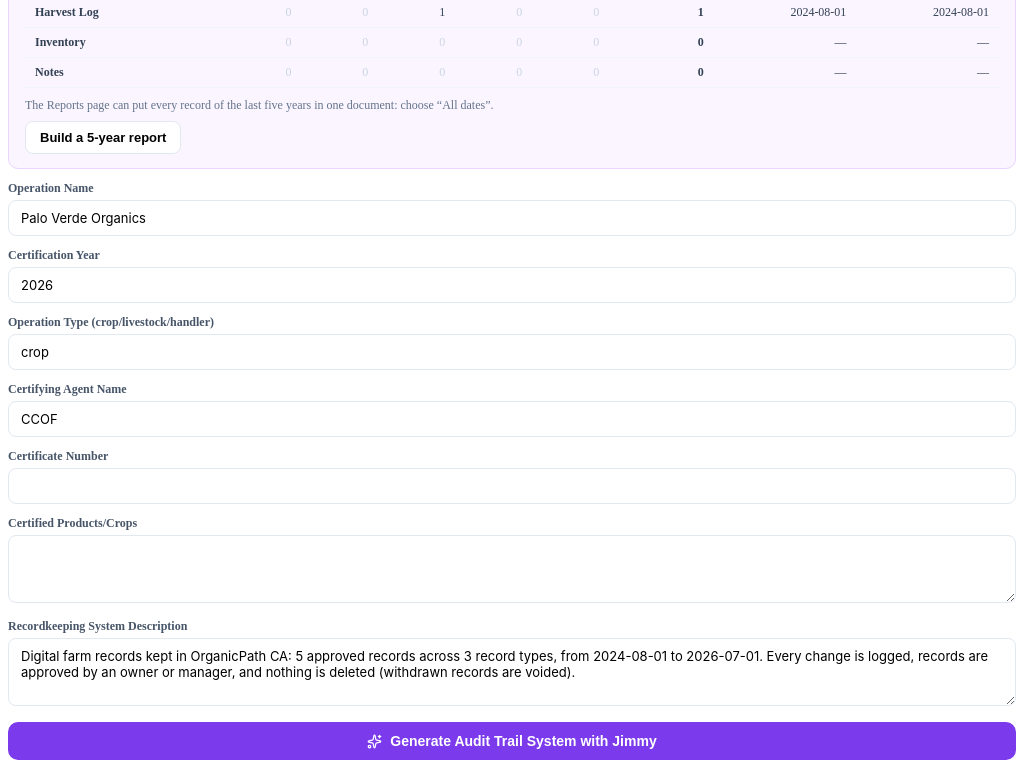
Test case: AuditTrailForm: writing the document › shows a problem instead of a draft when the AI cannot answer
(page scrolled)
Click the button "Generate Audit Trail System with Jimmy": (512, 741) top-left (8, 722), bottom-right (1016, 760)
(page scrolled)
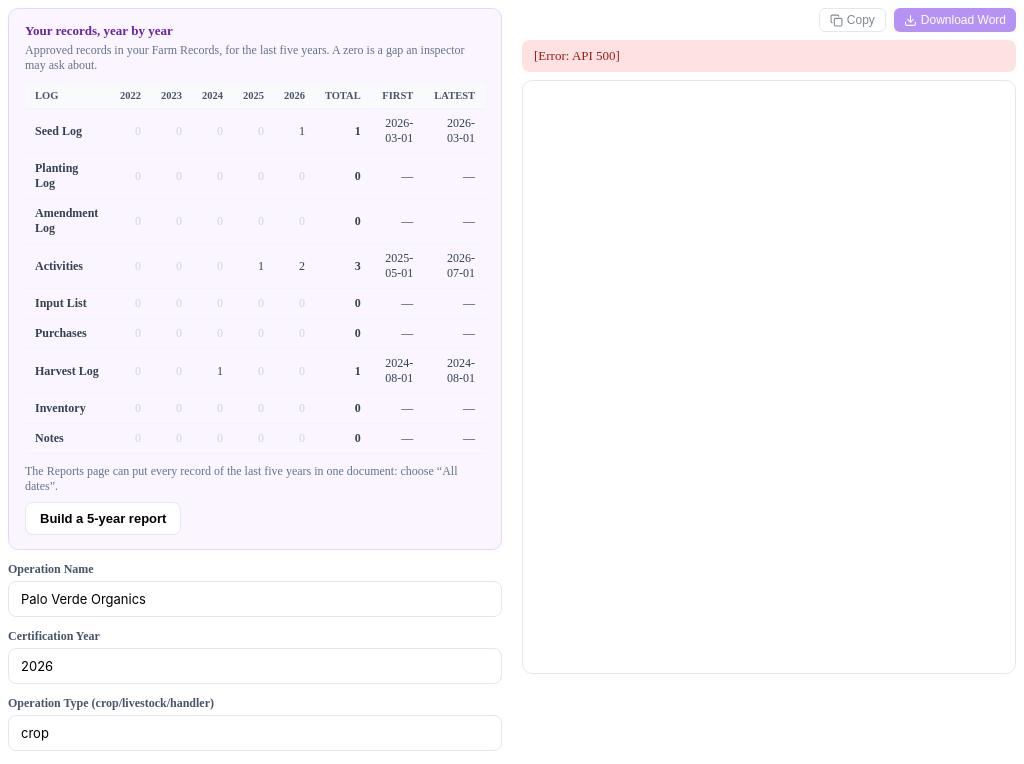
Now the text "[Error: API 500]" is shown, box top-left (522, 40), bottom-right (1016, 72)
